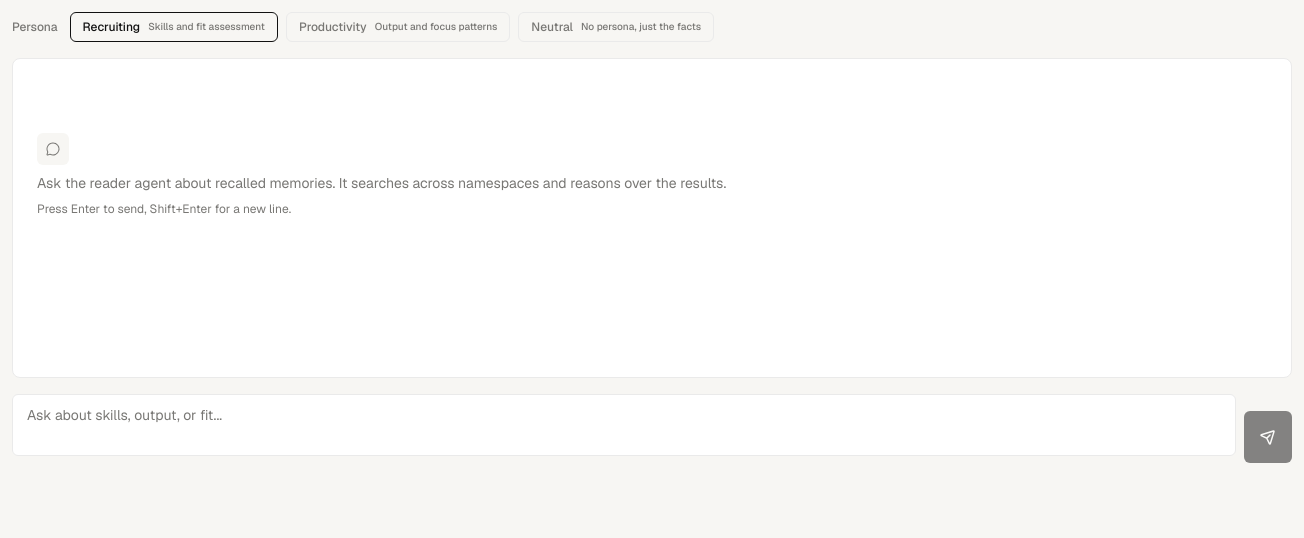
Test case: <ReaderChat /> › forwards the full transcript on a second turn
Type "first question" into the text box named "Message".
click(624, 425); type("first question")  # box [12,394,1236,456]
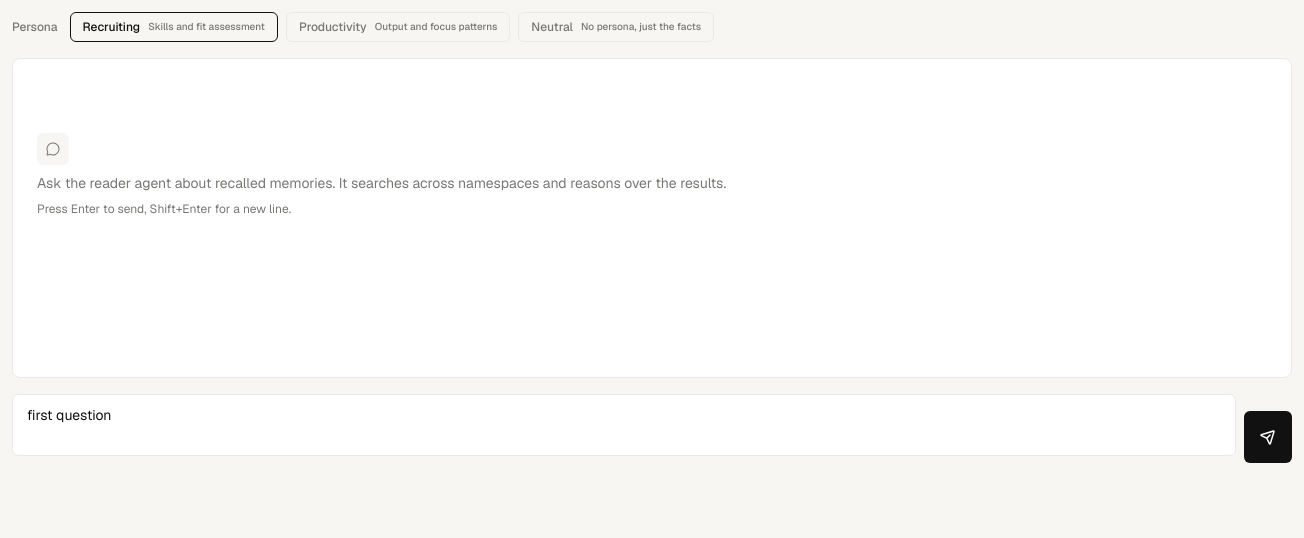
Submit the form named "Message", box [12,394,1292,463]
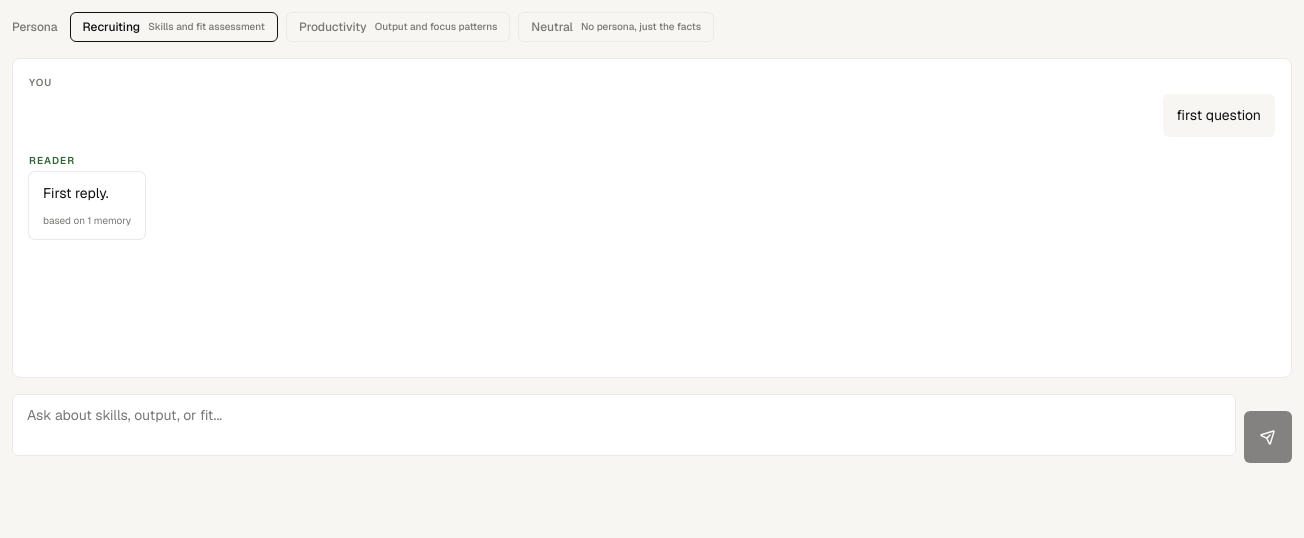
expect the text "First reply." is shown: met, box [43,184,109,202]
Type "second question" into the text box named "Message".
click(624, 425); type("second question")  # box [12,394,1236,456]
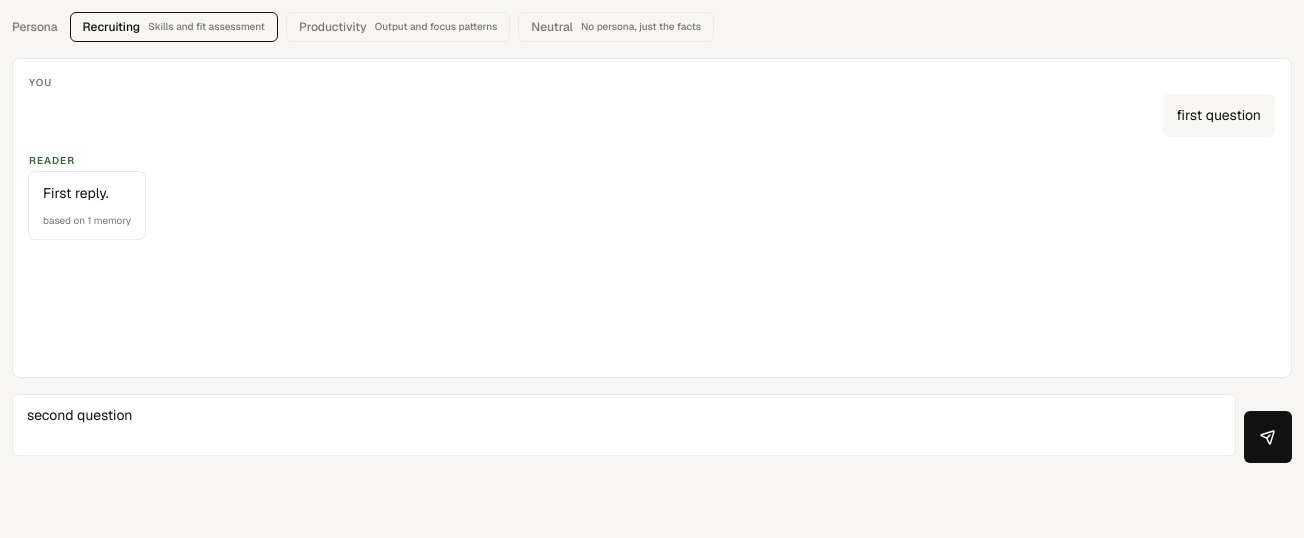
Submit the form named "Message", box [12,394,1292,463]
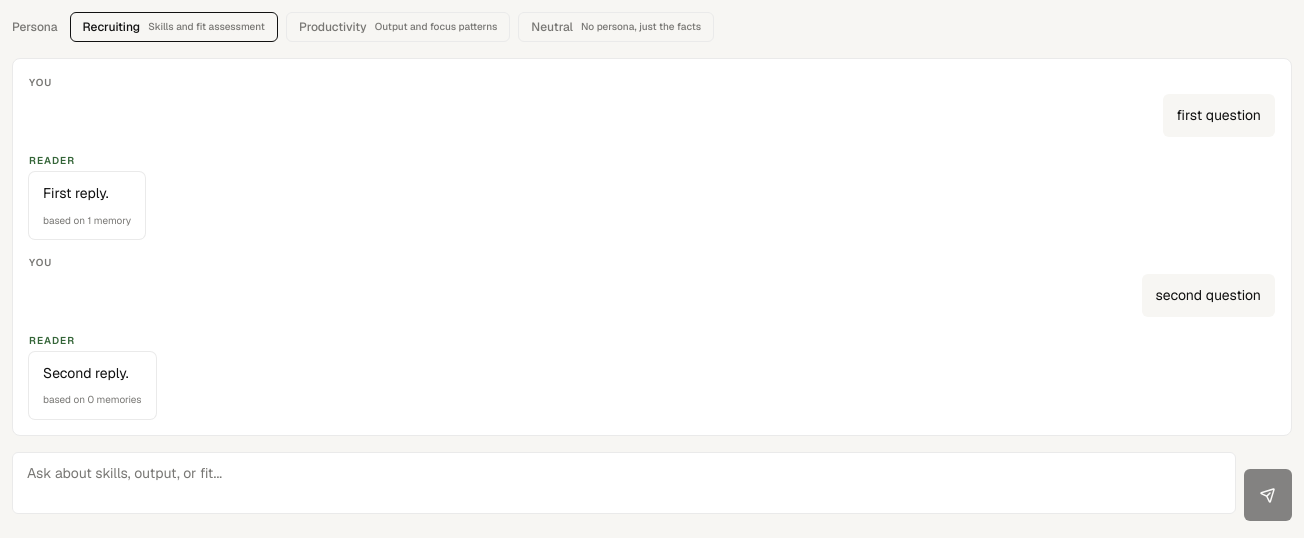
expect the text "Second reply." is shown: met, box [43,362,142,384]
expect the text "based on 0 memories" is shown: met, box [43,392,142,409]
